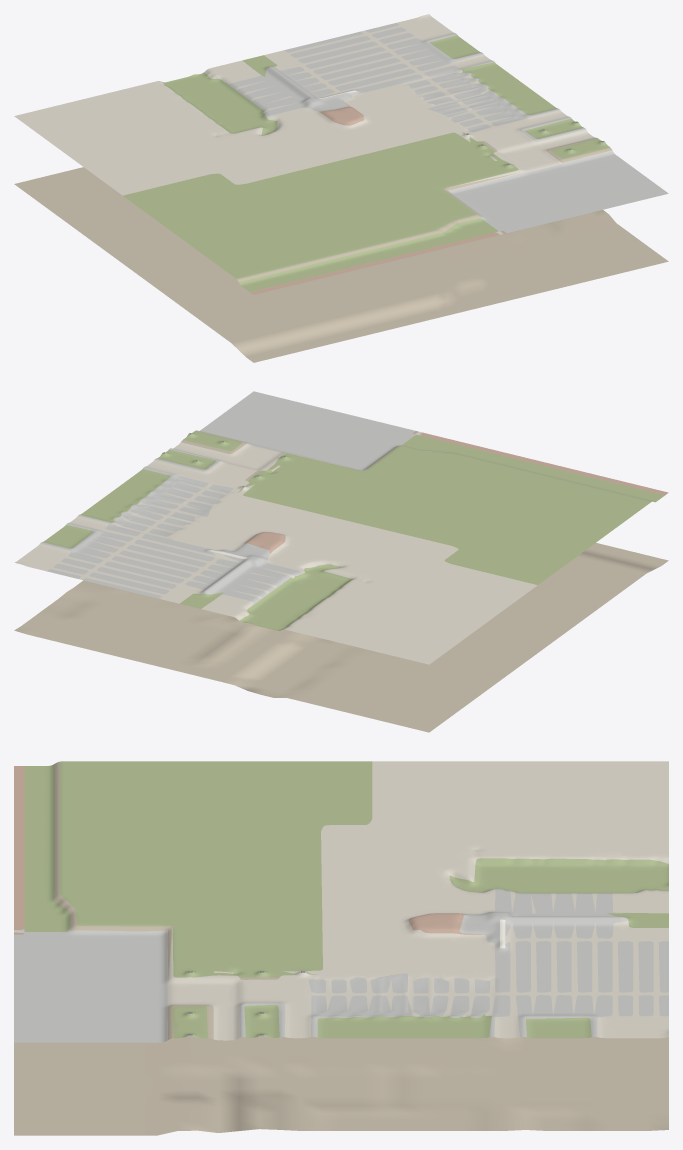
3 renders of one model, top to bottom at view 1: azimuth 30°, elevation 25°; view 2: azimuth 150°, elevation 25°; view 3: azimuth 270°, elevation 25°, orthographic. The views are drawn at different scales.
Visible parts, largest first — view 1: s_-2_3__soil, s_-2_3__grass, s_-2_3__paving, s_-2_3__stone_paving, s_-2_3__brick_paving; view 2: s_-2_3__soil, s_-2_3__grass, s_-2_3__paving, s_-2_3__stone_paving, s_-2_3__brick_paving; view 3: s_-2_3__grass, s_-2_3__paving, s_-2_3__soil, s_-2_3__stone_paving, s_-2_3__brick_paving.
Boxes of the visible parts, box(x1,y1,x2,y2) form: s_-2_3__soil: box(14, 137, 668, 362); s_-2_3__grass: box(123, 35, 609, 291); s_-2_3__paving: box(14, 14, 612, 234); s_-2_3__stone_paving: box(222, 23, 668, 234); s_-2_3__brick_paving: box(250, 101, 506, 294); s_-2_3__soil: box(14, 430, 668, 732); s_-2_3__grass: box(43, 431, 664, 630); s_-2_3__paving: box(14, 432, 537, 664); s_-2_3__stone_paving: box(40, 391, 422, 609); s_-2_3__brick_paving: box(237, 431, 668, 553); s_-2_3__grass: box(24, 761, 668, 1038); s_-2_3__paving: box(14, 761, 668, 1040); s_-2_3__soil: box(14, 761, 668, 1135); s_-2_3__stone_paving: box(14, 889, 668, 1042); s_-2_3__brick_paving: box(14, 766, 482, 934).
Bounding box in the file's own units: 128 × 22.01 × 128.
